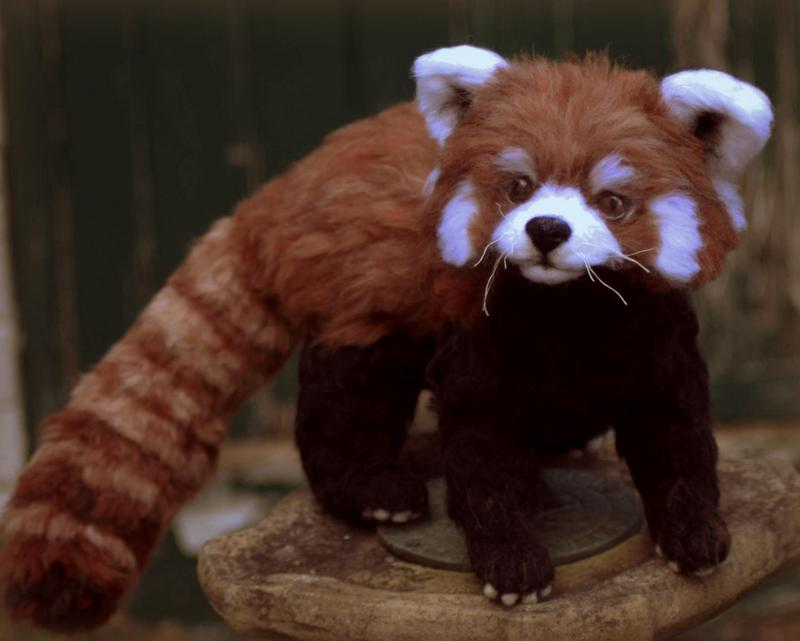red_panda: (33, 58, 759, 599)
